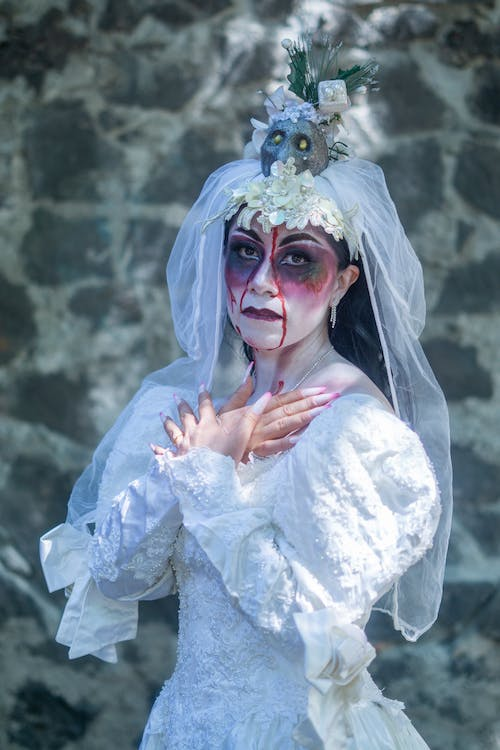blood: (225, 225, 338, 395)
